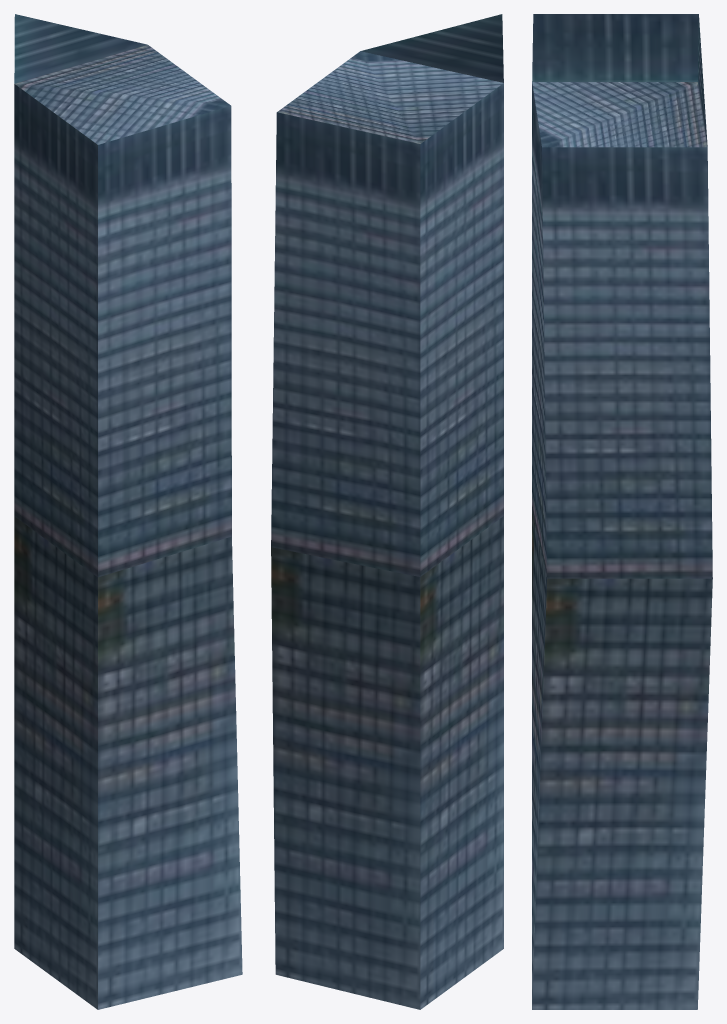
The model's file is ny-tower-6.glb.
The picture shows the model from 3 angles, left to right: view 1: azimuth 30°, elevation 25°; view 2: azimuth 150°, elevation 25°; view 3: azimuth 270°, elevation 25°; orthographic projection.
Parts seen in each view (by area): view 1: ny-tower-6; view 2: ny-tower-6; view 3: ny-tower-6.
Boxes of the visible parts, x1=… form: ny-tower-6: x1=14, y1=14, x2=242, y2=1009; ny-tower-6: x1=271, y1=14, x2=503, y2=1009; ny-tower-6: x1=532, y1=14, x2=712, y2=1009.
Size of the model in its own units: 32.38 by 200 by 35.33.
1 material, 1 textured.
